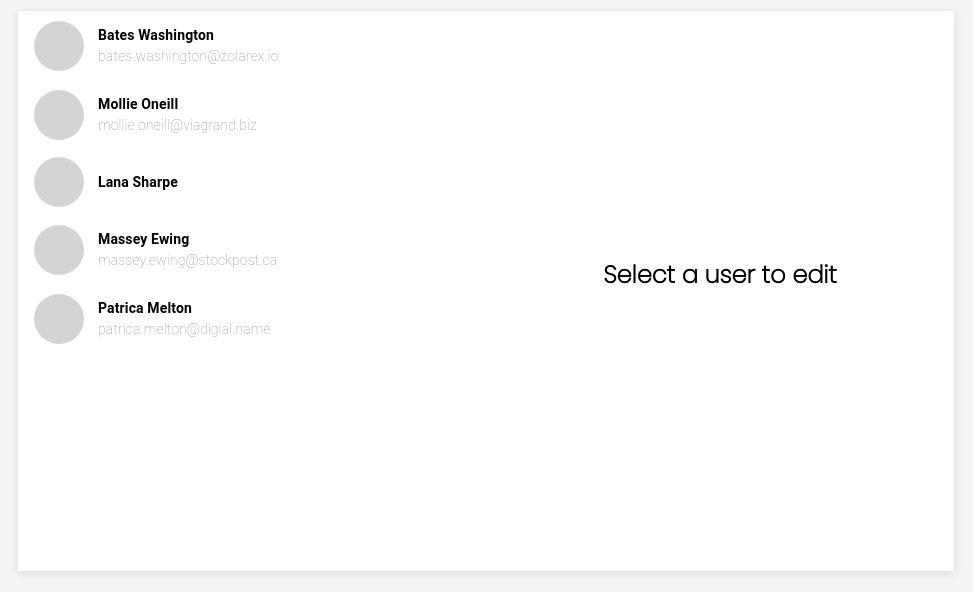
Dashboard › should check if a user is clicked, the form will show up
Expected: the text "Select a user to edit" is shown, [603, 258, 837, 290]
Click the list item with test id "person".
click(145, 114)  # box [34, 90, 257, 140]
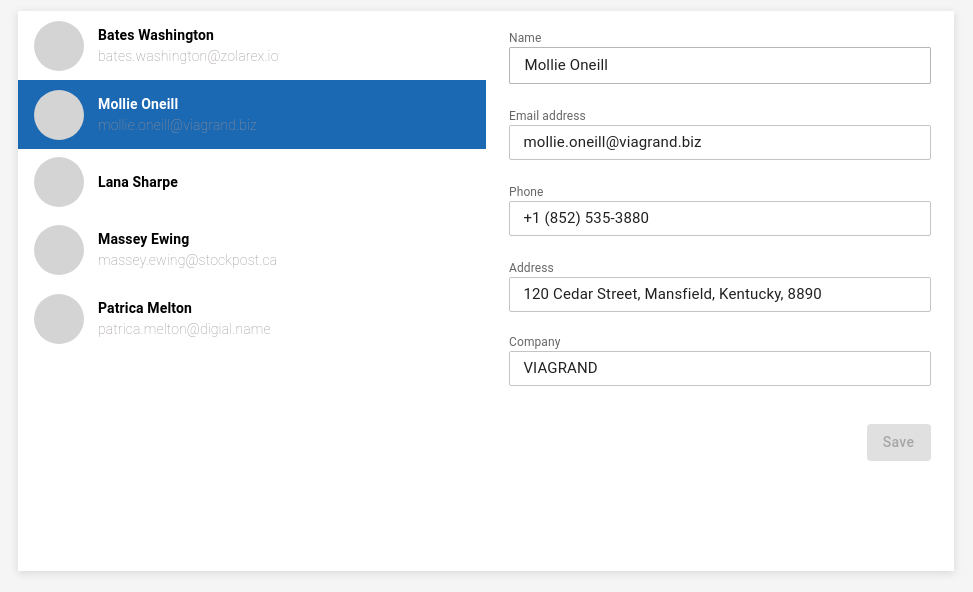
Expected: the form with test id "form" is shown, [509, 31, 931, 460]
Expected: the text with test id "message" is gone
